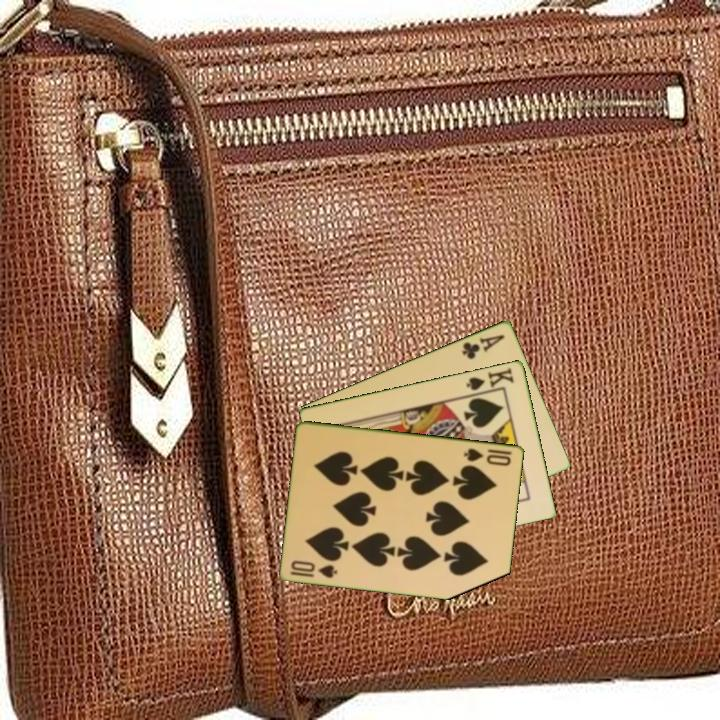10s: (460, 444, 514, 469), (287, 557, 341, 581)
Ac: (459, 331, 508, 362)
Ks: (463, 364, 517, 397)
